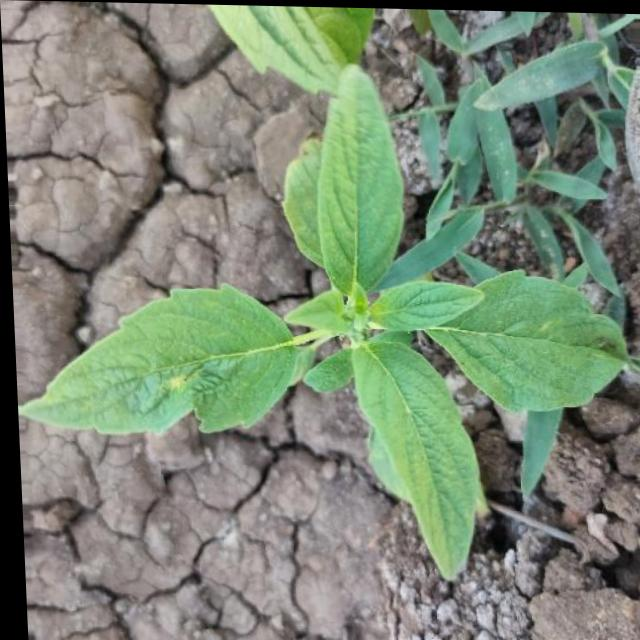crop: (10, 59, 634, 591)
